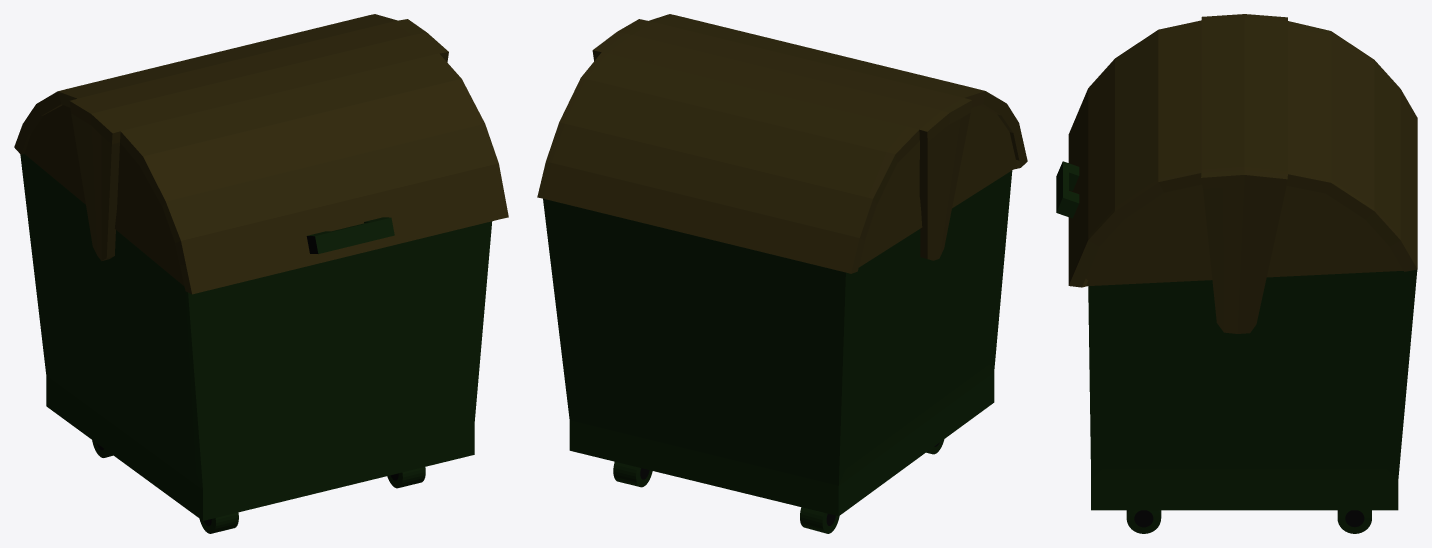
Rendered from garbageHolderGreen.fbx.
3 views of the same model, side by side, from view 1: azimuth 30°, elevation 25°; view 2: azimuth 150°, elevation 25°; view 3: azimuth 270°, elevation 25° (orthographic). The views are drawn at different scales.
Parts seen in each view (by area): view 1: Cylinder.002; view 2: Cylinder.002; view 3: Cylinder.002.
Boxes of the visible parts, left/top/right/bottom form: Cylinder.002: left=14, top=14, right=508, bottom=533; Cylinder.002: left=537, top=14, right=1027, bottom=533; Cylinder.002: left=1056, top=14, right=1417, bottom=533.
Bounding box in the file's own units: 222 × 250 × 209.
